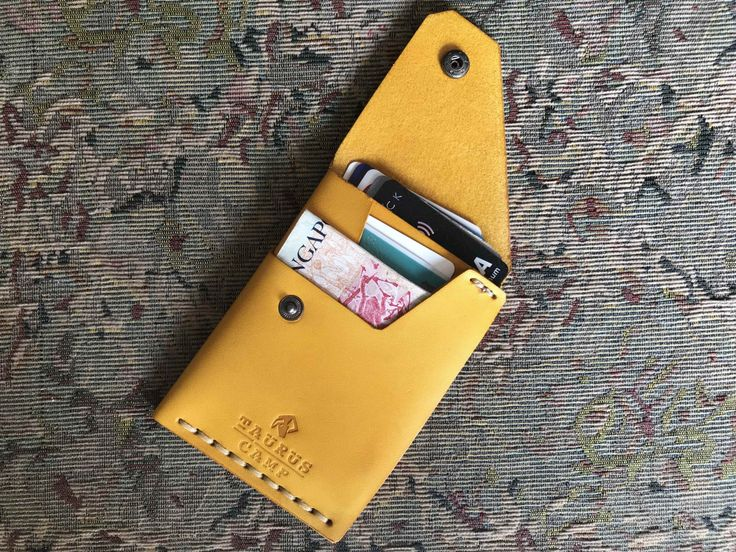cuero: (150, 170, 507, 544)
